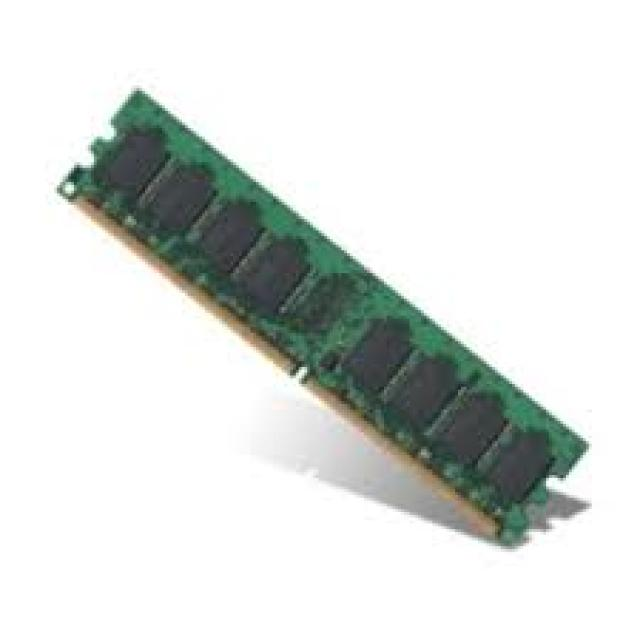Ram: (94, 57, 601, 580)
